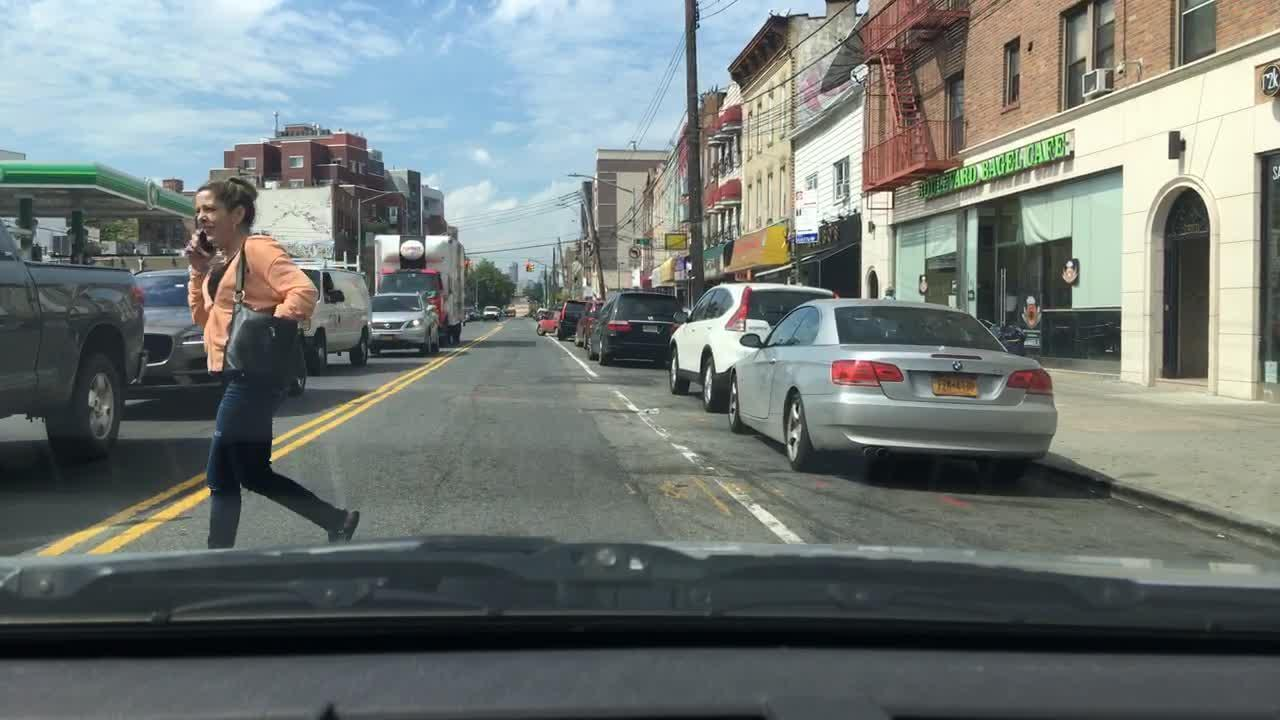bmw: (948, 359, 966, 374)
